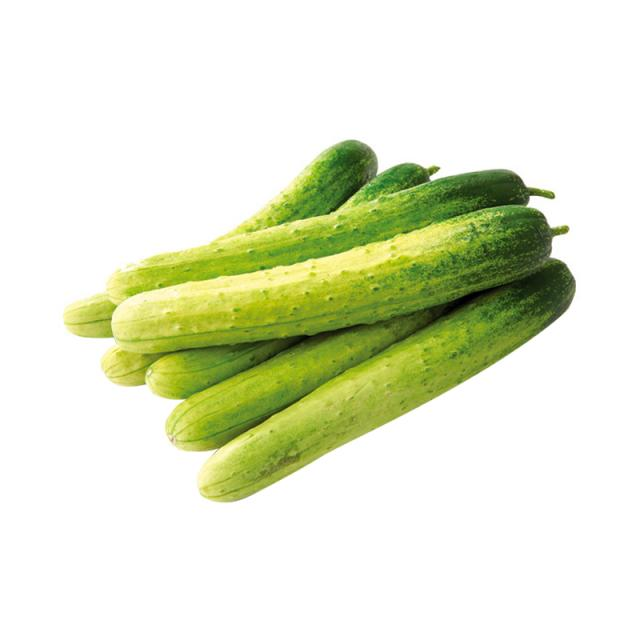cucumber: (54, 130, 588, 522)
